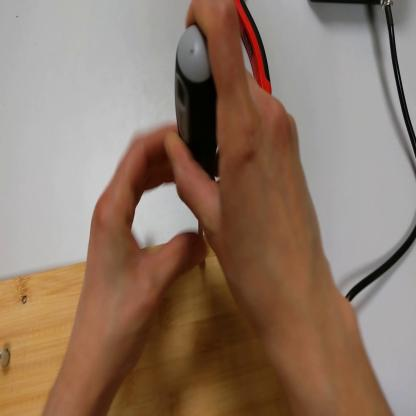hand: (173, 5, 326, 333), (71, 125, 207, 385)
pliers: (237, 2, 272, 95)
screwdriver-: (177, 24, 222, 253)
welder station: (310, 1, 395, 7)
working area: (2, 208, 294, 415)
